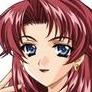NoHuman: (0, 0, 90, 92)
